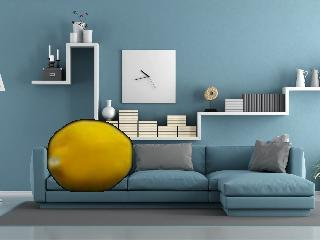lemon: (46, 120, 131, 192)
